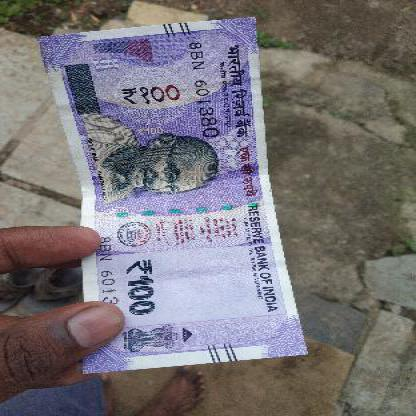New100Front: (43, 18, 309, 366)
